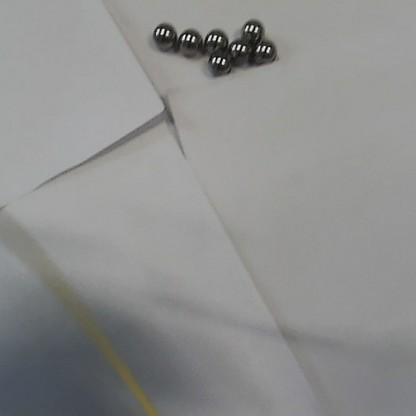ironball: (153, 23, 175, 49), (177, 28, 198, 53), (228, 40, 248, 64), (210, 51, 229, 75), (242, 19, 262, 41), (206, 29, 225, 51), (254, 42, 274, 61)
